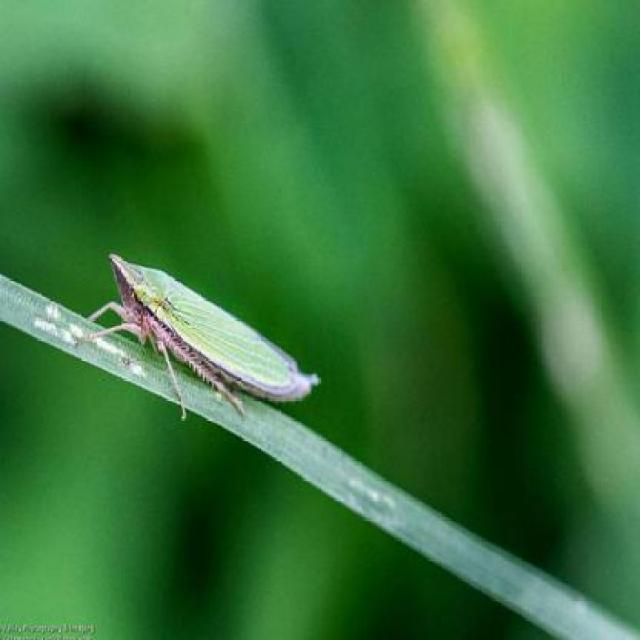green-leafhopper: (105, 248, 300, 434)
